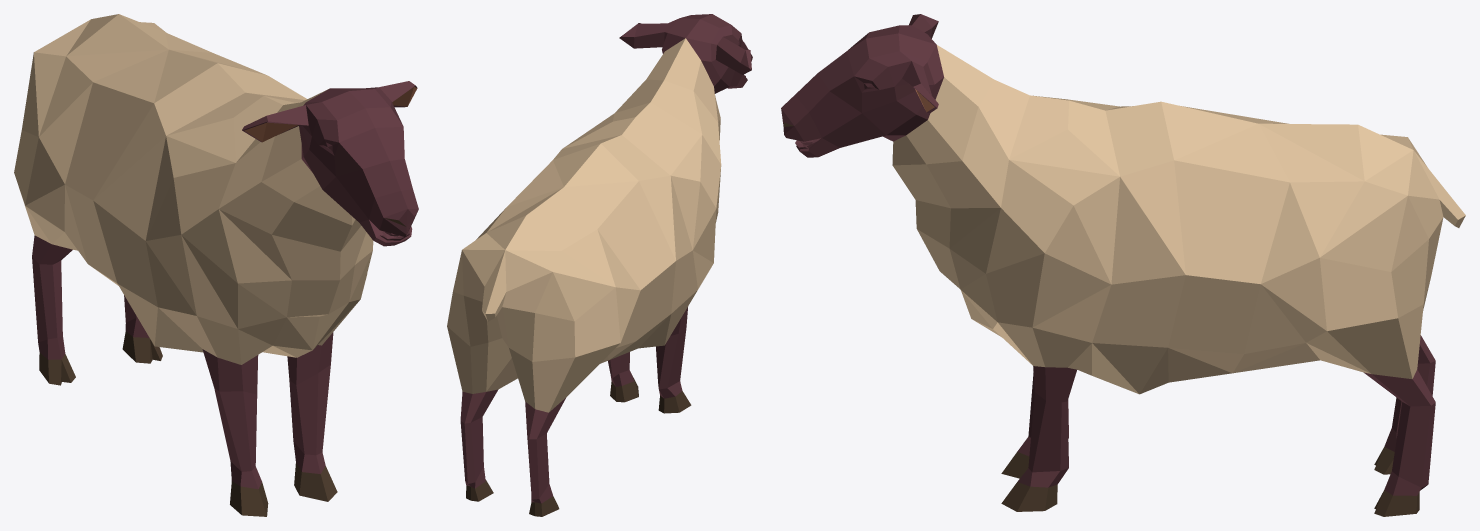
File: sheep-white.fbx
3 views of the same model, side by side, from view 1: azimuth 30°, elevation 25°; view 2: azimuth 150°, elevation 25°; view 3: azimuth 270°, elevation 25° (orthographic). The views are drawn at different scales.
Parts seen in each view (by area): view 1: sheep-white; view 2: sheep-white; view 3: sheep-white.
Part boxes in pixels (<box>): sheep-white: <box>14,14,418,516</box>; sheep-white: <box>447,14,752,516</box>; sheep-white: <box>781,14,1465,516</box>.
Size of the model in its own units: 0.4475 by 0.8723 by 1.19.
